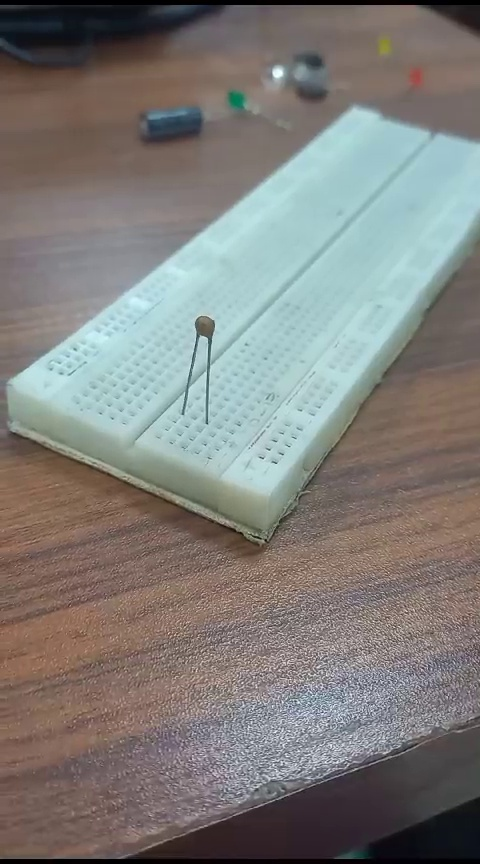ceramic capacitor: (183, 312, 219, 420)
